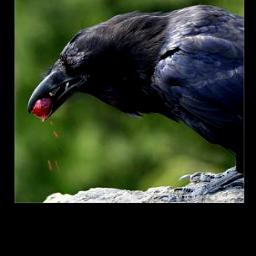Crow: (26, 3, 244, 202)
